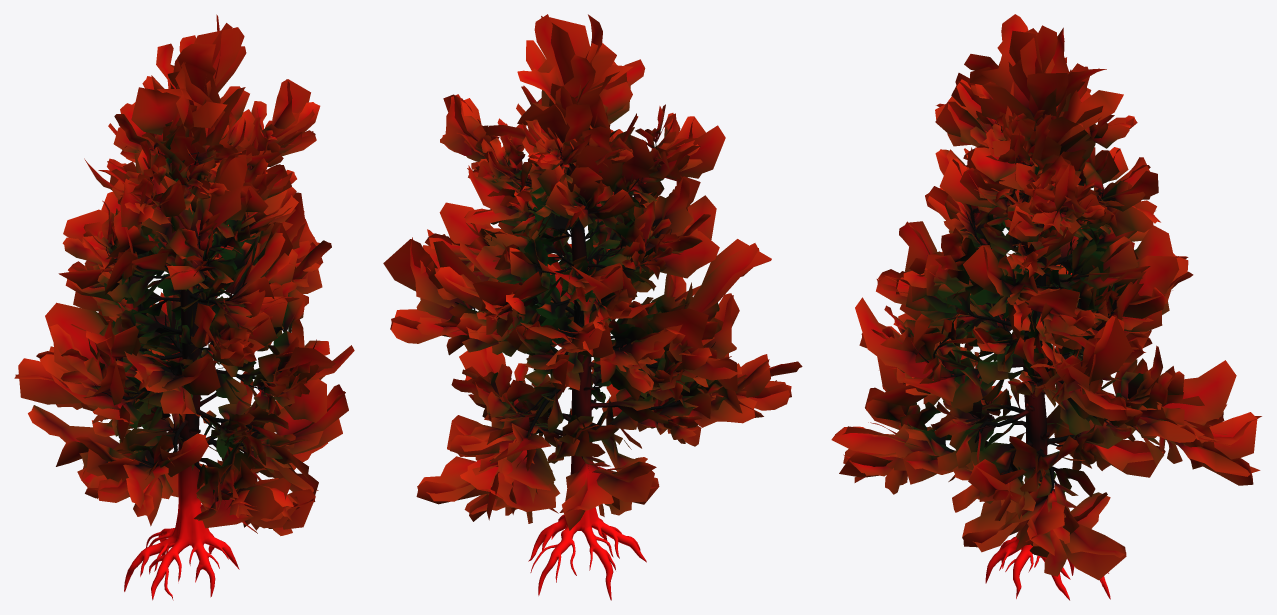
File: JuniperGCATA_B.fbx
3 views of the same model, side by side, from view 1: azimuth 30°, elevation 25°; view 2: azimuth 150°, elevation 25°; view 3: azimuth 270°, elevation 25° (orthographic). The views are drawn at different scales.
Visible parts, largest first — view 1: JuniperGCATAB_Leaves_LOD0, JuniperGCATAB_Bark_LOD0; view 2: JuniperGCATAB_Leaves_LOD0, JuniperGCATAB_Bark_LOD0; view 3: JuniperGCATAB_Leaves_LOD0, JuniperGCATAB_Bark_LOD0.
Part boxes in pixels (<box>): JuniperGCATAB_Leaves_LOD0: <box>14,14,354,535</box>; JuniperGCATAB_Bark_LOD0: <box>94,144,316,600</box>; JuniperGCATAB_Leaves_LOD0: <box>383,14,802,530</box>; JuniperGCATAB_Bark_LOD0: <box>474,139,715,600</box>; JuniperGCATAB_Leaves_LOD0: <box>831,14,1261,580</box>; JuniperGCATAB_Bark_LOD0: <box>911,124,1113,600</box>.
Size of what is drawn, in the model's own units: 9.32 by 15.56 by 10.29.
